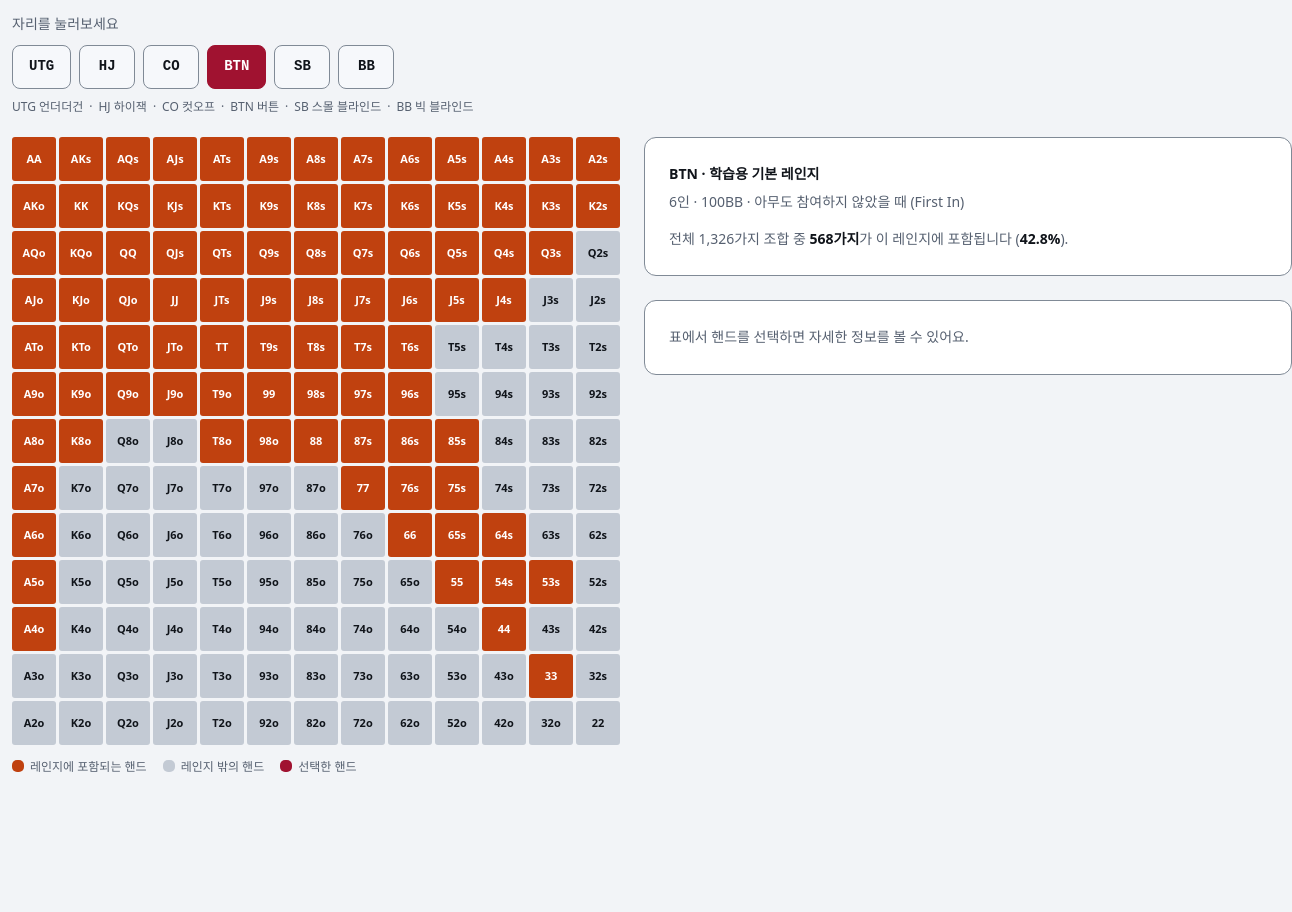
Test: HomeRangePreview › explains a position with no data instead of drawing an empty grid
Step 1. Click the button "BB" → (366, 66), box [338,44,394,88]
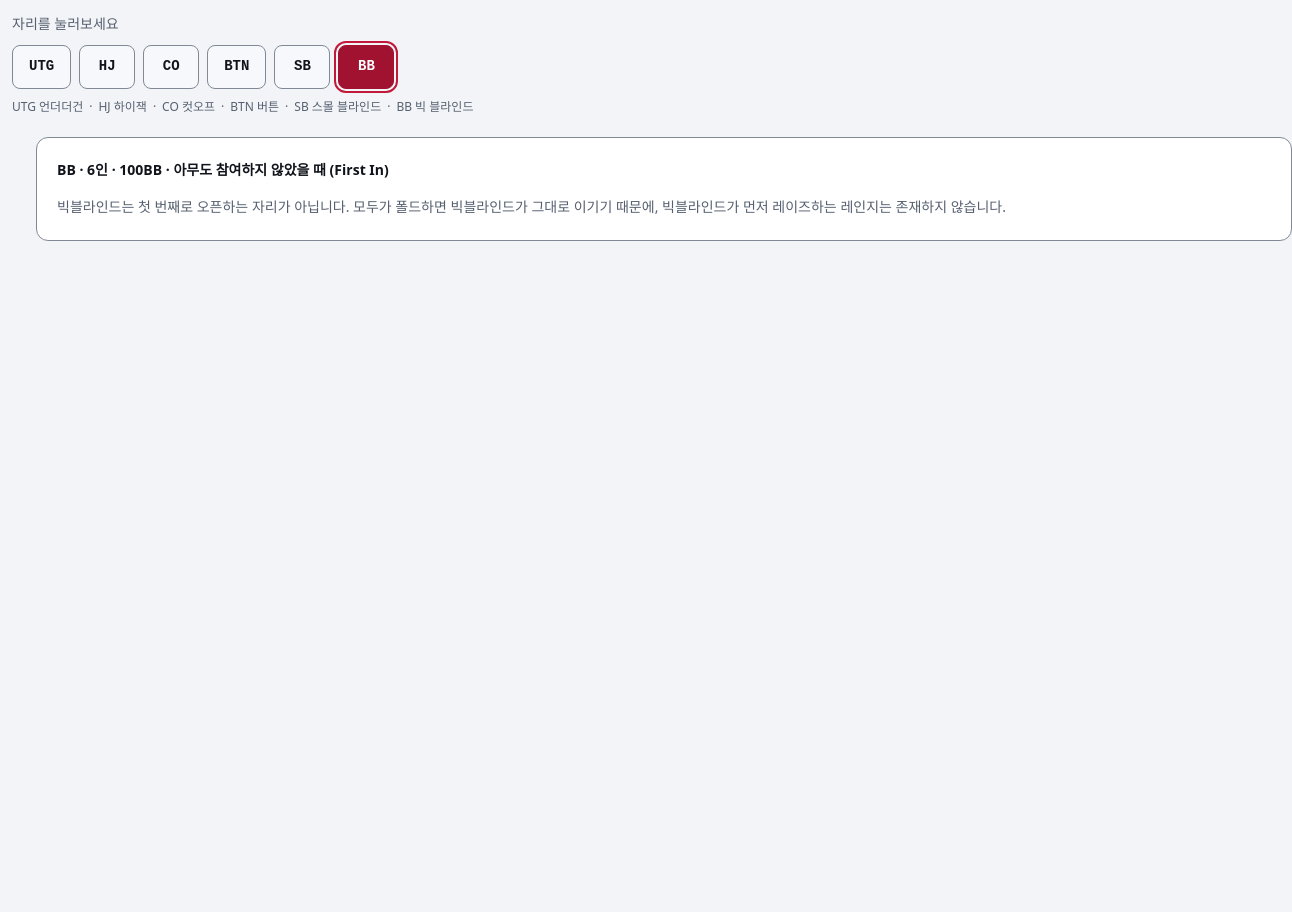
Expected: the list item "빅블라인드는 첫 번째로 오픈하는 자리가 아닙니다. 모두가 폴드하면 빅블라인드가 그대로 이기기 때문에, 빅블라인드가 먼저 레이즈하는 레인지는 존재하지 않습니다." is shown, [57,197,1006,216]
Expected: the text "이 레인지에 포함됩니다" is gone
